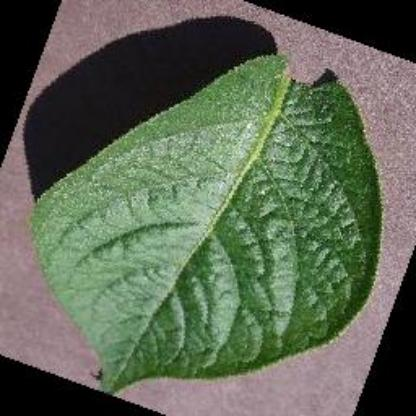Healthy-plant: (23, 46, 396, 396)
